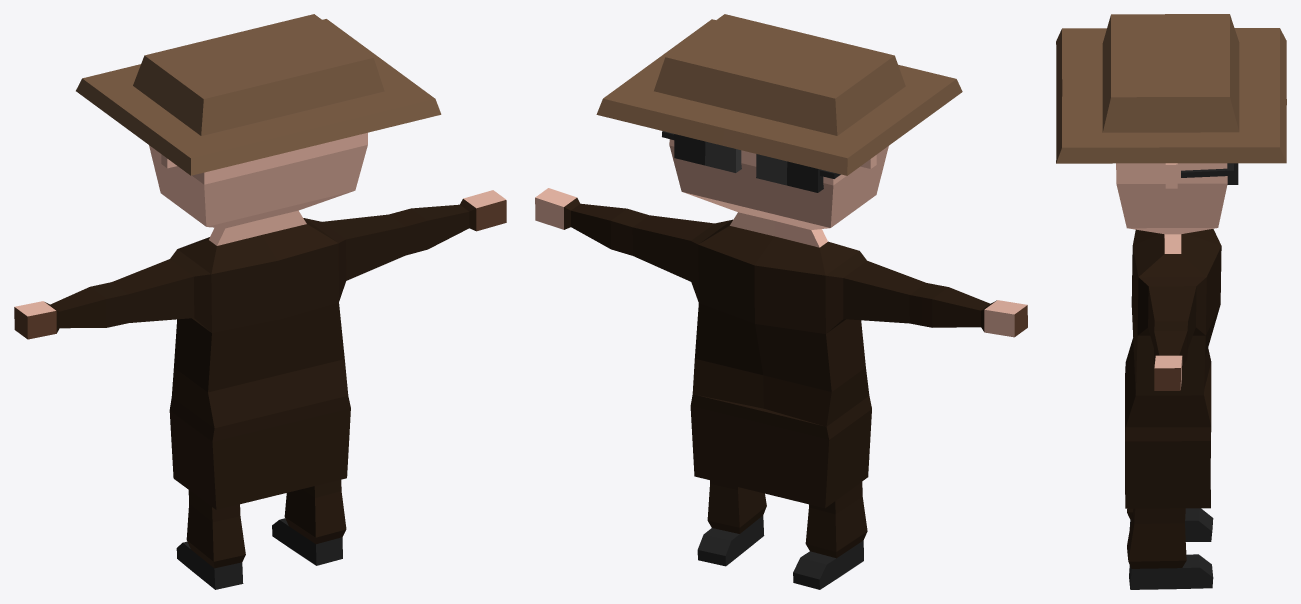
The model's file is DetectiveModel.fbx.
3 renders of one model, left to right at view 1: azimuth 30°, elevation 25°; view 2: azimuth 150°, elevation 25°; view 3: azimuth 270°, elevation 25°, orthographic.
Visible parts, largest first — view 1: Detective; view 2: Detective; view 3: Detective.
Part boxes in pixels (<box>): Detective: <box>14,14,506,589</box>; Detective: <box>535,14,1027,589</box>; Detective: <box>1056,14,1286,589</box>.
Size of the model in its own units: 58.85 by 59.11 by 24.55.
